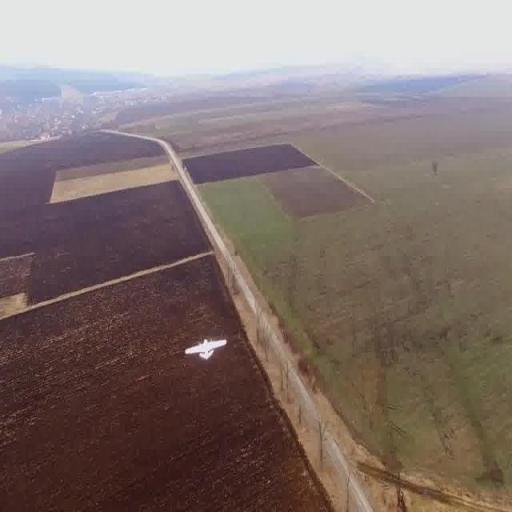uav: (181, 331, 230, 370)
